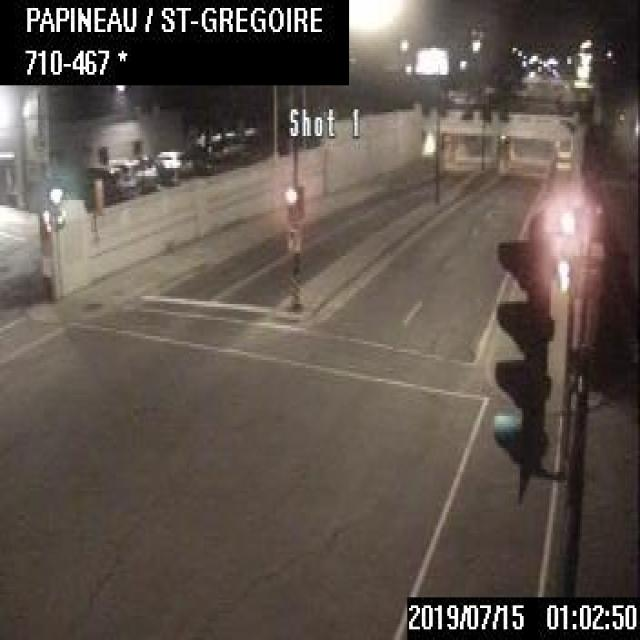vehicle: (154, 146, 192, 177)
